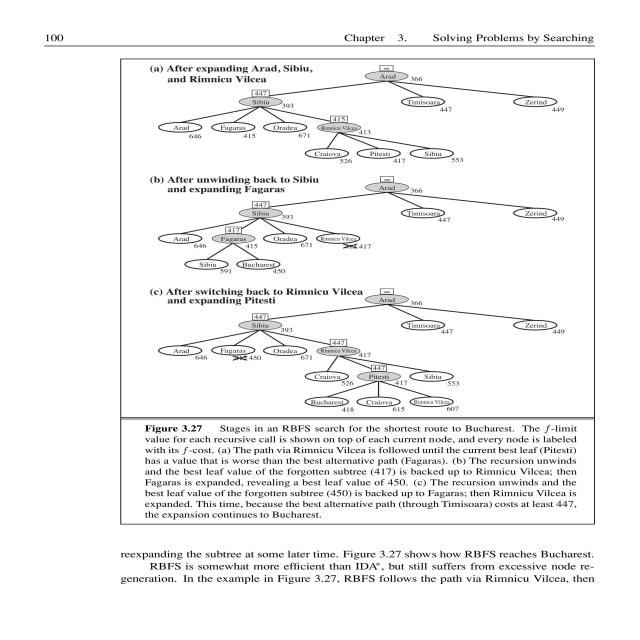diagram: (103, 52, 629, 524)
